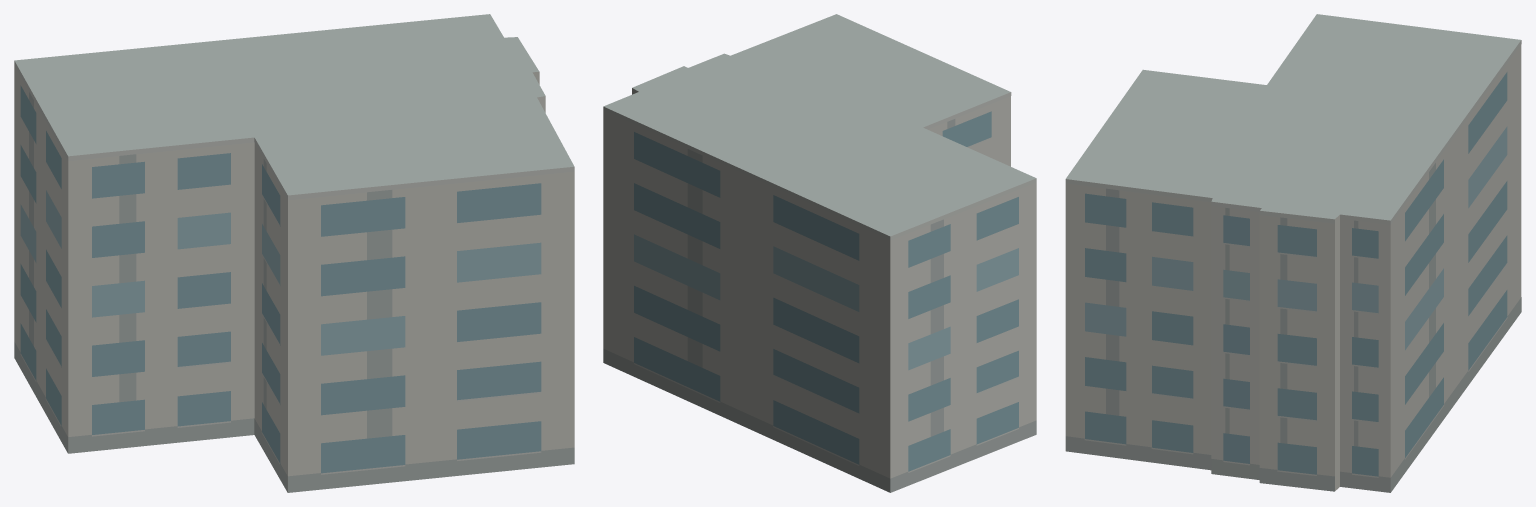
The model's file is survey-upis-32871955.glb.
The picture shows the model from 3 angles, left to right: view 1: azimuth 30°, elevation 25°; view 2: azimuth 150°, elevation 25°; view 3: azimuth 270°, elevation 25°; orthographic projection. The views are drawn at different scales.
Visible parts, largest first — view 1: survey-upis-32871955.tmp; view 2: survey-upis-32871955.tmp; view 3: survey-upis-32871955.tmp.
Part boxes in pixels (box(x1,y1,x2,y2)): survey-upis-32871955.tmp: box(14, 14, 574, 492); survey-upis-32871955.tmp: box(603, 14, 1036, 492); survey-upis-32871955.tmp: box(1065, 14, 1521, 492).
Bounding box in the file's own units: 24.82 × 15.25 × 23.14.
